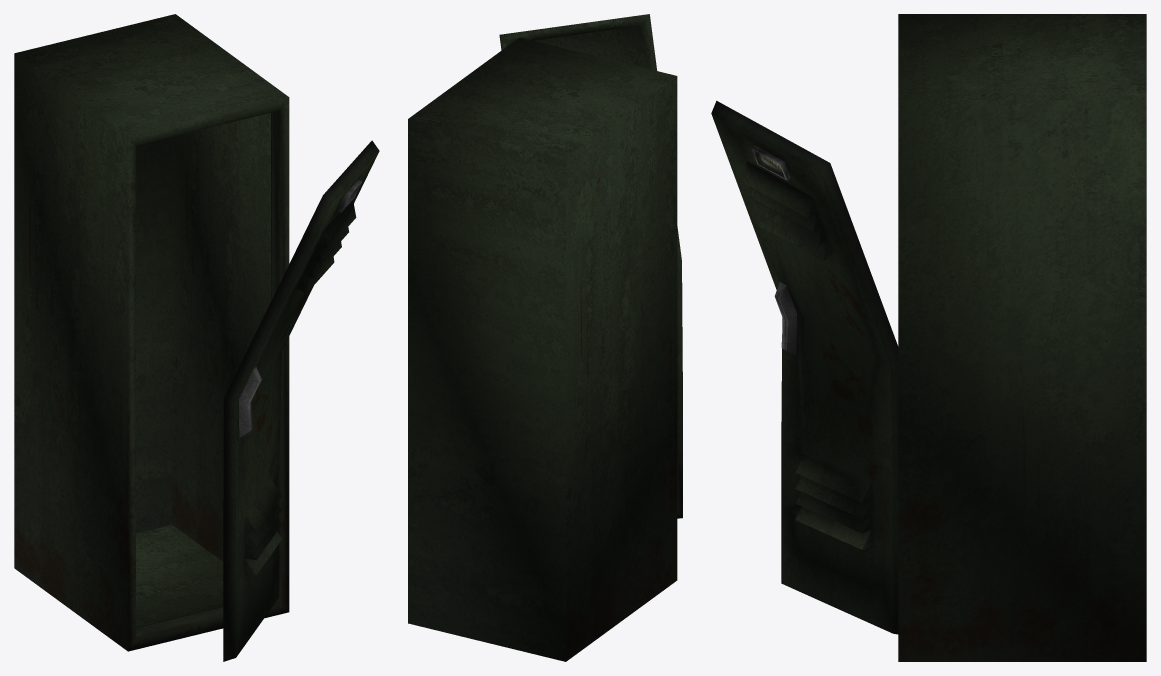
The model's file is Lockers_DoorOff.fbx.
The picture shows the model from 3 angles, left to right: view 1: azimuth 30°, elevation 25°; view 2: azimuth 150°, elevation 25°; view 3: azimuth 270°, elevation 25°; orthographic projection. The views are drawn at different scales.
Visible parts, largest first — view 1: Cube; view 2: Cube; view 3: Cube.
Part boxes in pixels (<box>): Cube: <box>14,14,379,661</box>; Cube: <box>408,14,682,661</box>; Cube: <box>711,14,1146,661</box>.
Size of the model in its own units: 4.5 by 10.27 by 7.21.
